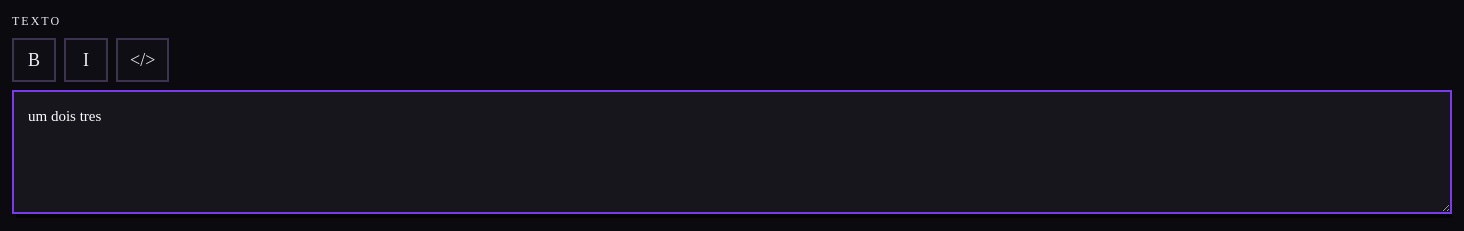
Test: AreaDeTexto: barra de Markdown › Código envolve a seleção e mantém o texto selecionado
Click the button named "Código". click: (143, 60)
box: [116, 38, 169, 82]
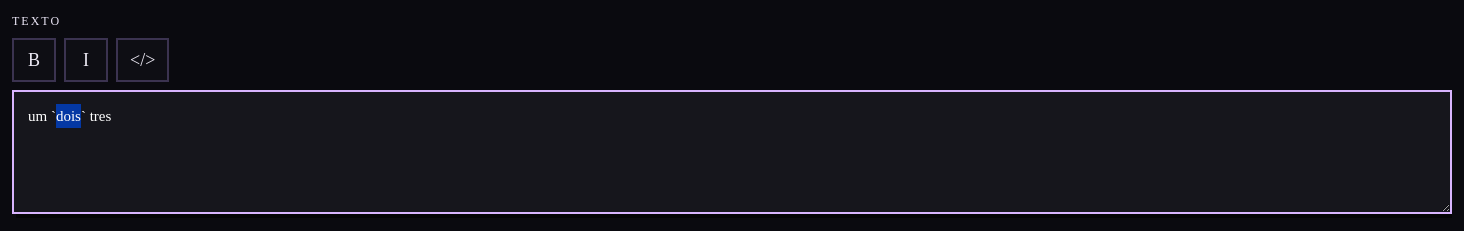
Check: the text box labelled "TEXTO" holds "um `dois` tres", box [12, 90, 1452, 214]
